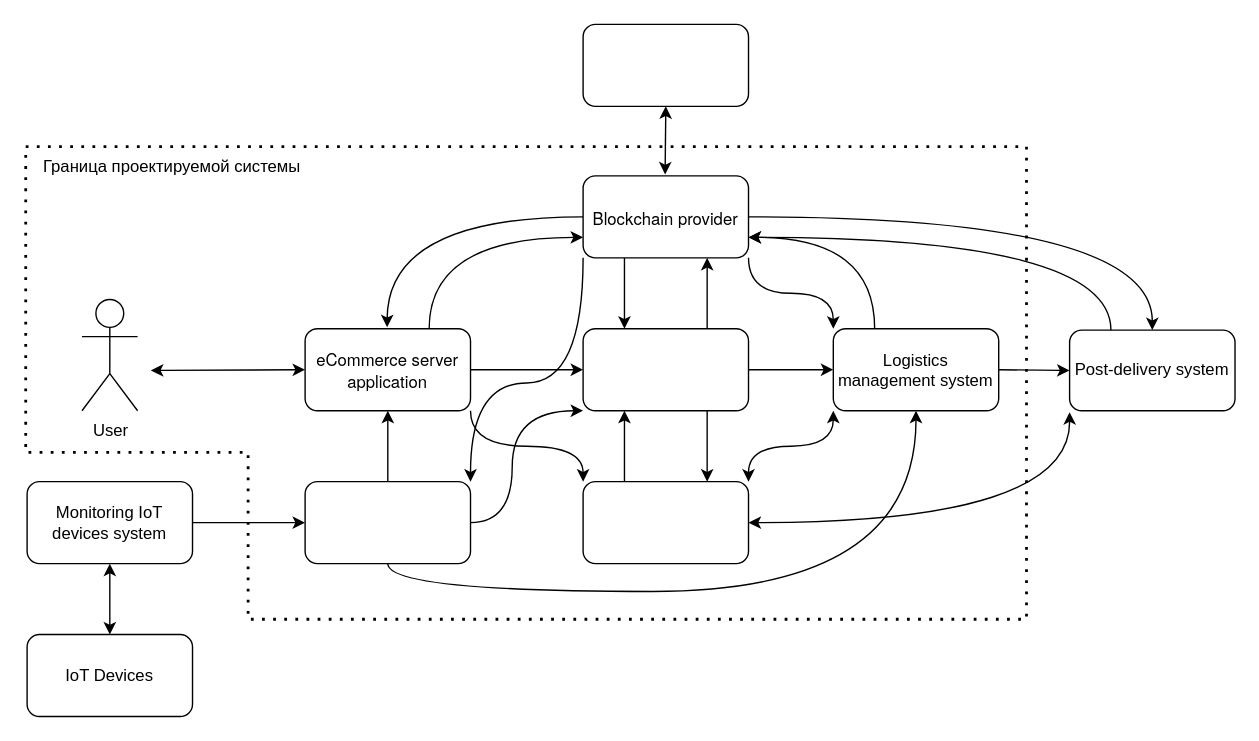
This 1259x741 diagram has some shape labels left out. Each missing label, with the centre of its shape:
DataBase: (x=665, y=522)
DLT: (x=665, y=64)
Order processing system: (x=665, y=369)
WMS: (x=387, y=522)
